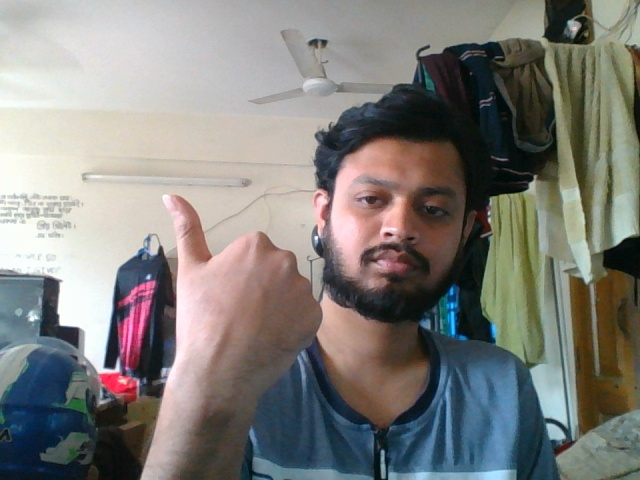do: (141, 188, 336, 469)
